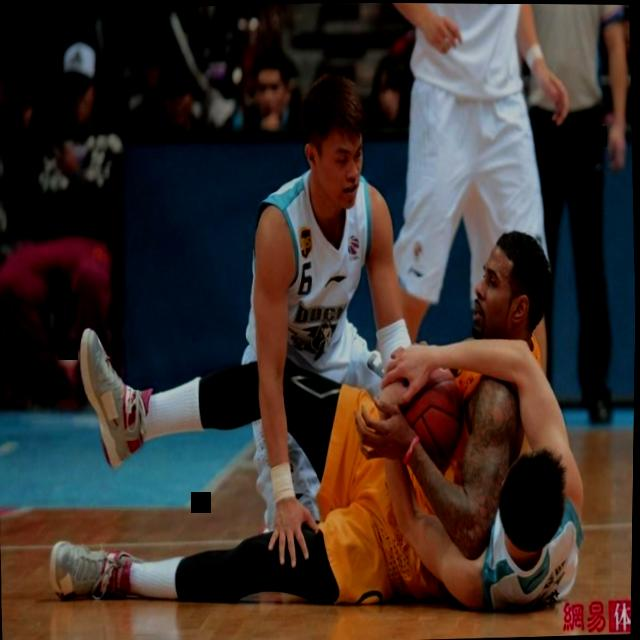Fall-Detected: (347, 228, 597, 621)
